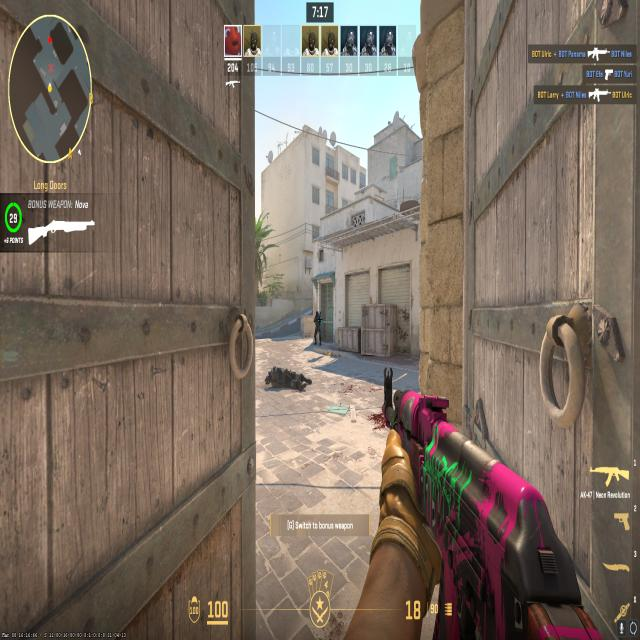ct: (310, 306, 324, 351)
